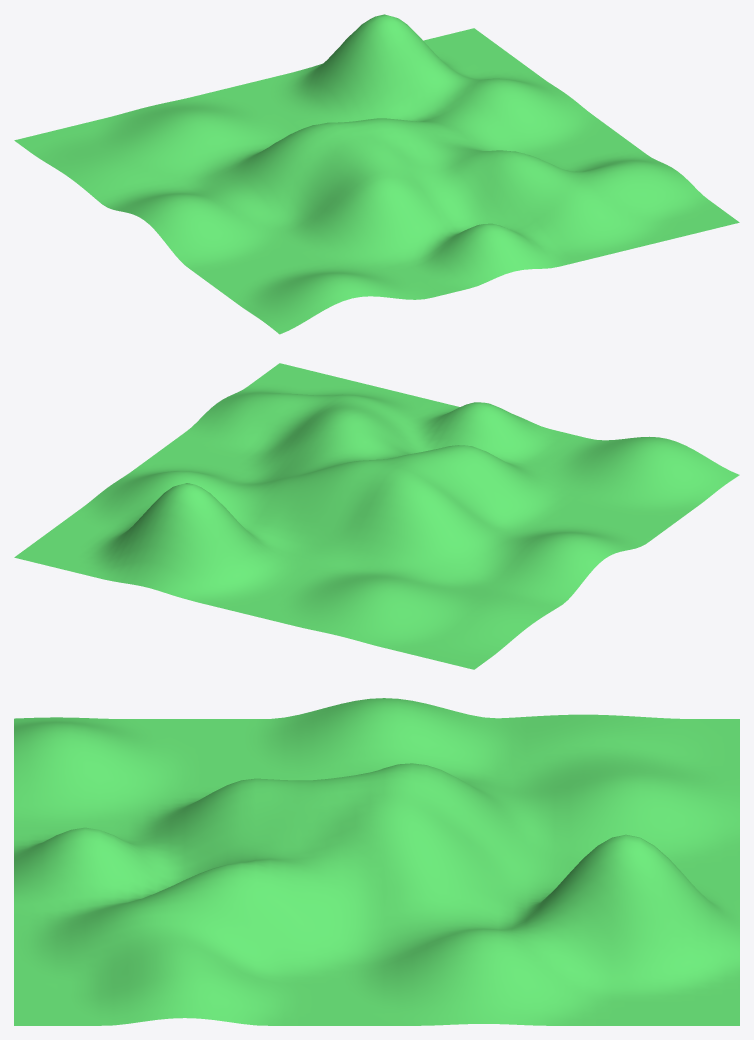
File: hills.fbx
3 views of the same model, one above another, from view 1: azimuth 30°, elevation 25°; view 2: azimuth 150°, elevation 25°; view 3: azimuth 270°, elevation 25° (orthographic). The views are drawn at different scales.
Visible parts, largest first — view 1: Plane; view 2: Plane; view 3: Plane.
Part boxes in pixels (<box>): Plane: <box>14,14,739,334</box>; Plane: <box>14,363,739,669</box>; Plane: <box>14,698,739,1025</box>.
Size of the model in its own units: 7247 by 1108 by 7247.
